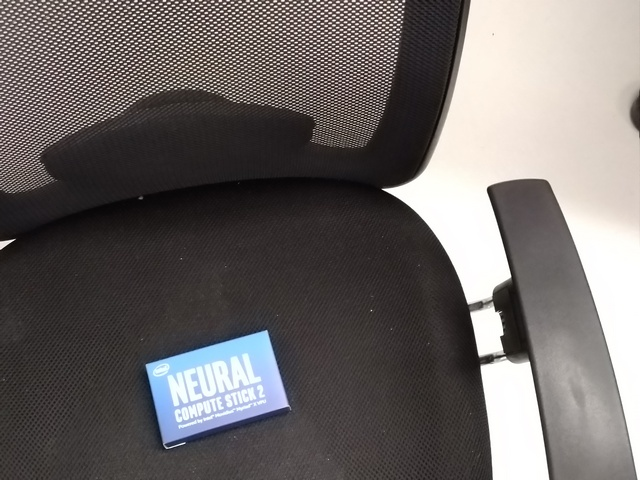box: (144, 328, 294, 451)
